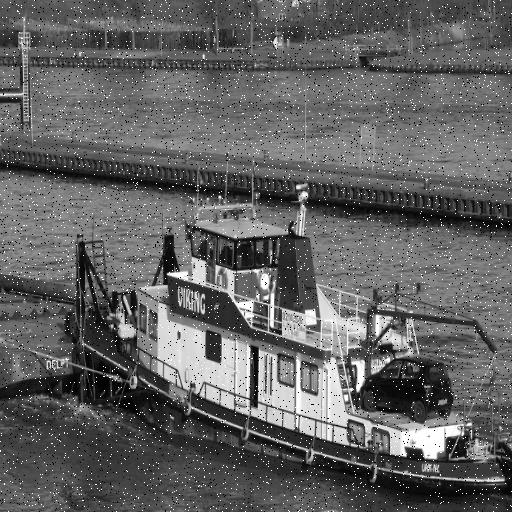tugboat: (64, 179, 512, 512)
